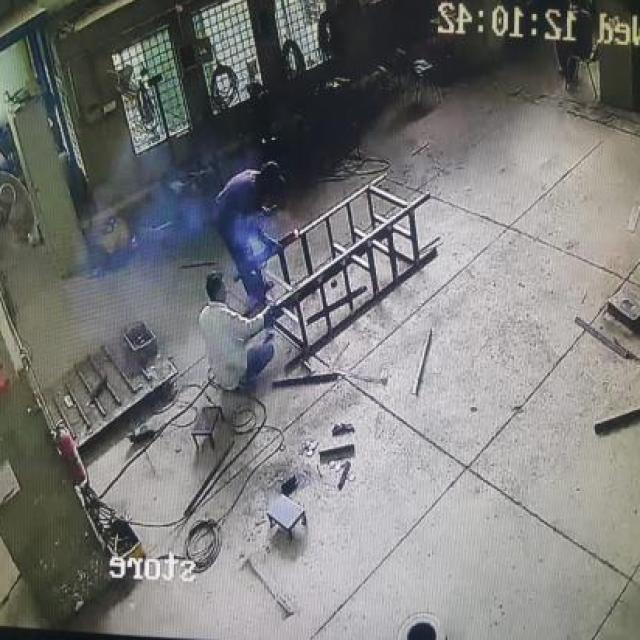fire: (66, 121, 288, 357)
